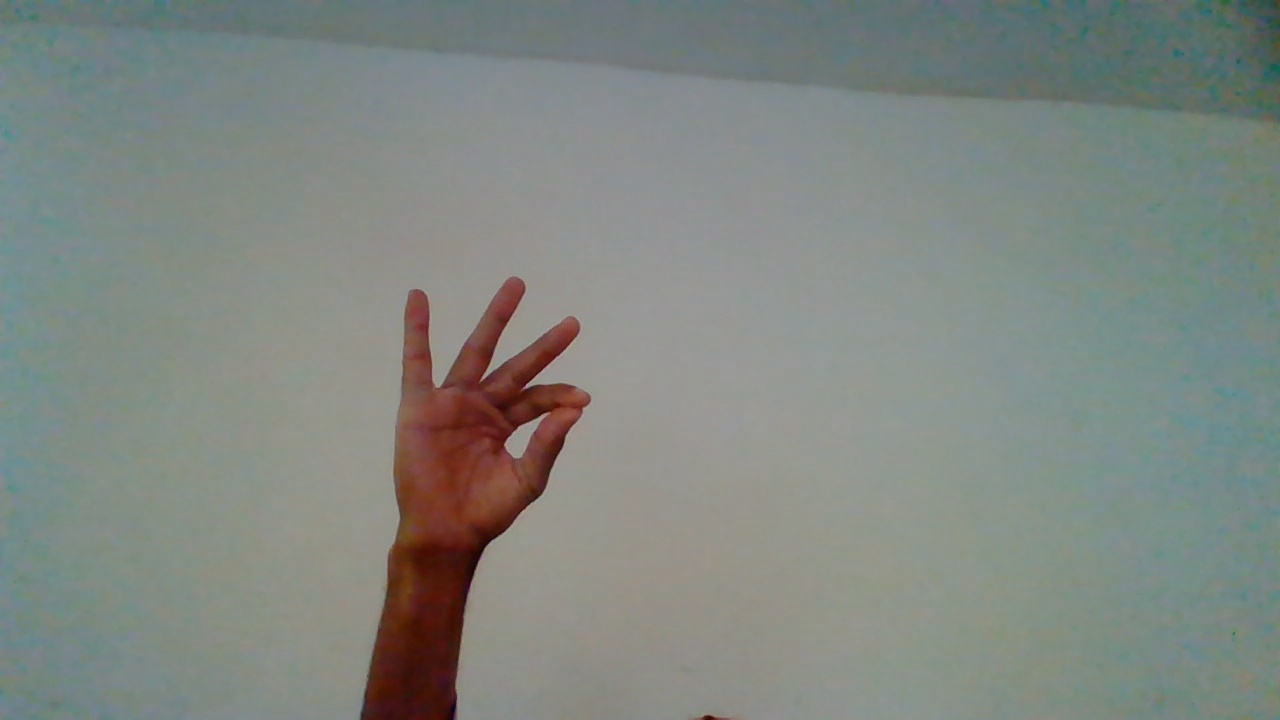le: (393, 275, 591, 626)
